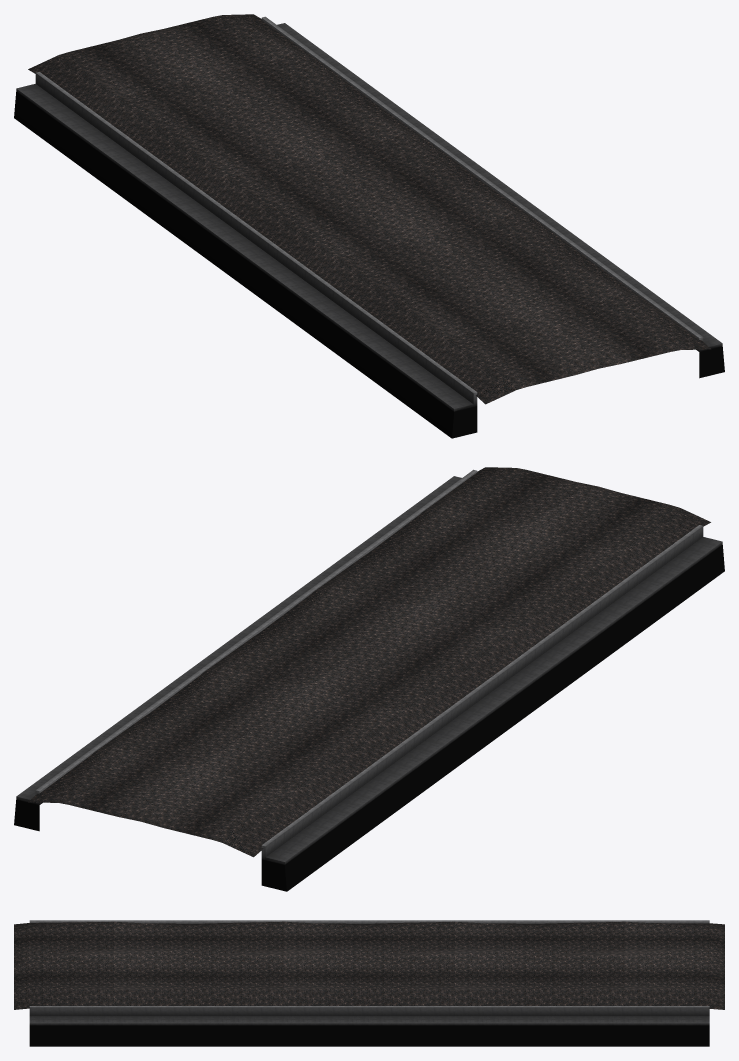
Rendered from AMB_MEI_JARI.glb.
3 views of the same model, one above another, from view 1: azimuth 30°, elevation 25°; view 2: azimuth 150°, elevation 25°; view 3: azimuth 270°, elevation 25° (orthographic). The views are drawn at different scales.
Parts seen in each view (by area): view 1: LeftWall; view 2: LeftWall; view 3: LeftWall.
Part boxes in pixels (bbox=[...]): LeftWall: bbox=[14, 14, 724, 438]; LeftWall: bbox=[14, 467, 724, 891]; LeftWall: bbox=[14, 920, 724, 1046].
Size of the model in its own units: 36 by 6.64 by 105.
Materials: 2 (2 with a texture image).
